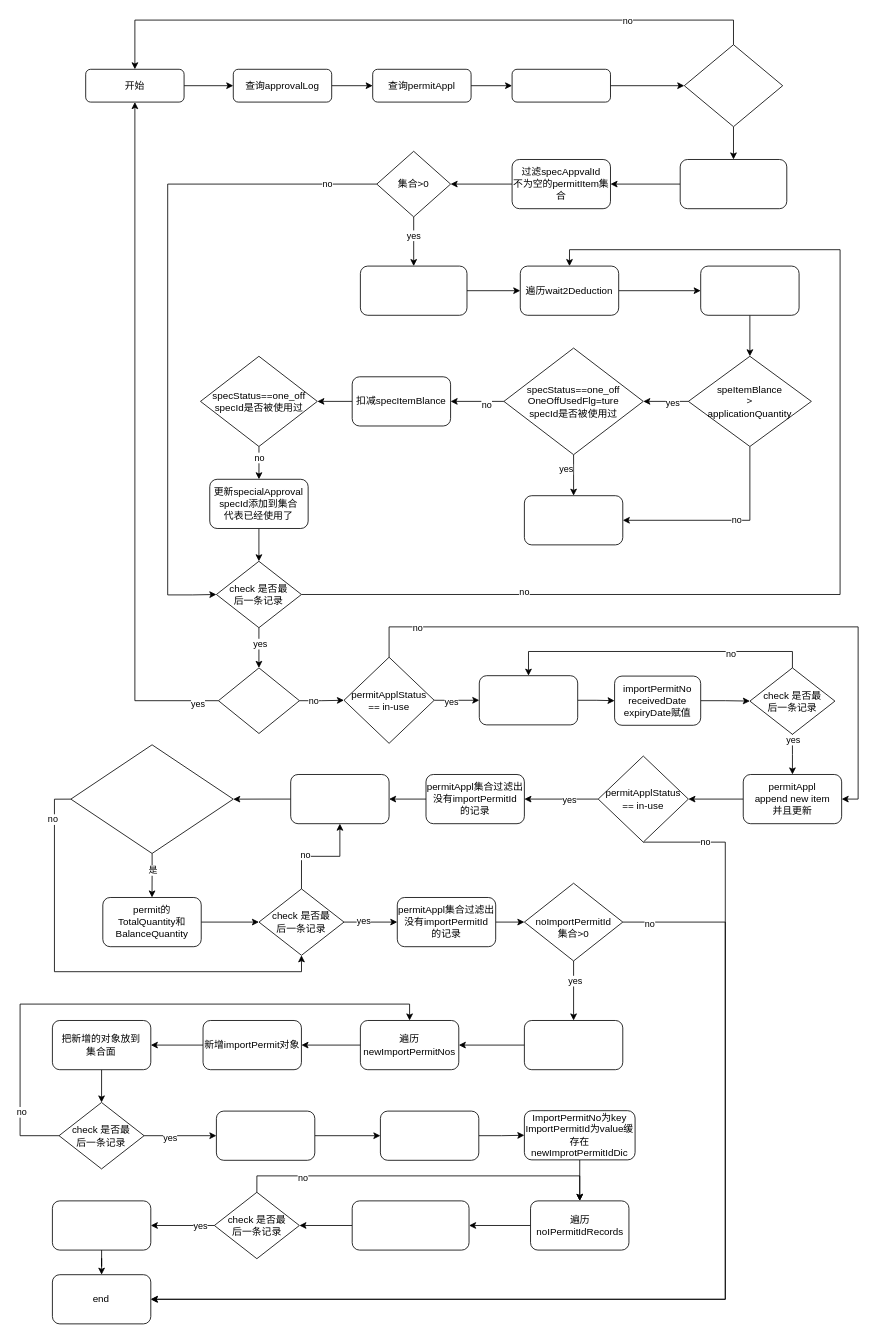
The diagram is 879 pixels wide and 1338 high, and some of its shapes have lost their labels. The shapes that lost their labels are listed below. From the top down, each one's centre as x and y in pixels, then its label:
point 560,85: 查询itemExcelFile
point 733,85: 执行permit-edit-check流程
point 733,184: temExcelFile的文件字段解析成 permitItem集合对象
point 413,290: 以specialApprovalId和itemCode为key,value为累加数量放到Map集合wait2Deduction
point 749,290: 查询specialApproval 查询specialApprovalItem
point 573,520: specErrorMsg添加错误信息
point 258,700: specErrorMsg>0
point 528,700: 遍历permitItem集合对象
point 151,798: 新分配的permitNo对比 当前permitAppl所关联的permitNO 是否有相同的
point 339,799: 遍历noImportPermitId 集合
point 573,1045: noImportPermitId集合根据permitNo去重
point 265,1135: 把新增的importPermit集合保存到数据库
point 429,1135: 遍历新保存到数据的imperPermit集合
point 101,1225: 更新到数据库
point 410,1225: 根据ImportPermitNo 从newImprotPermitIdDic 获取ImportPermitId并且赋值
